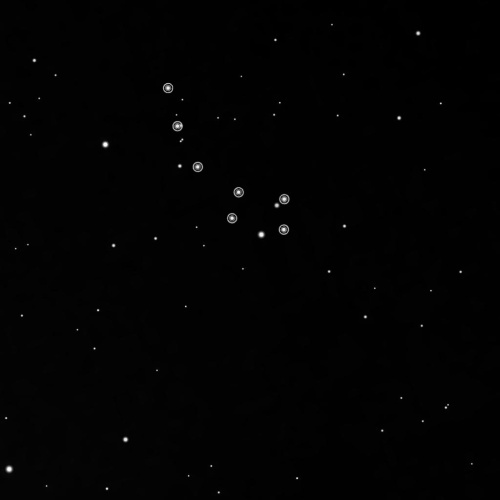ursa_minor: (158, 78, 292, 238)
